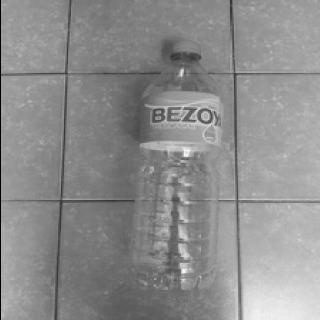plastic_bottles: (126, 38, 222, 300)
